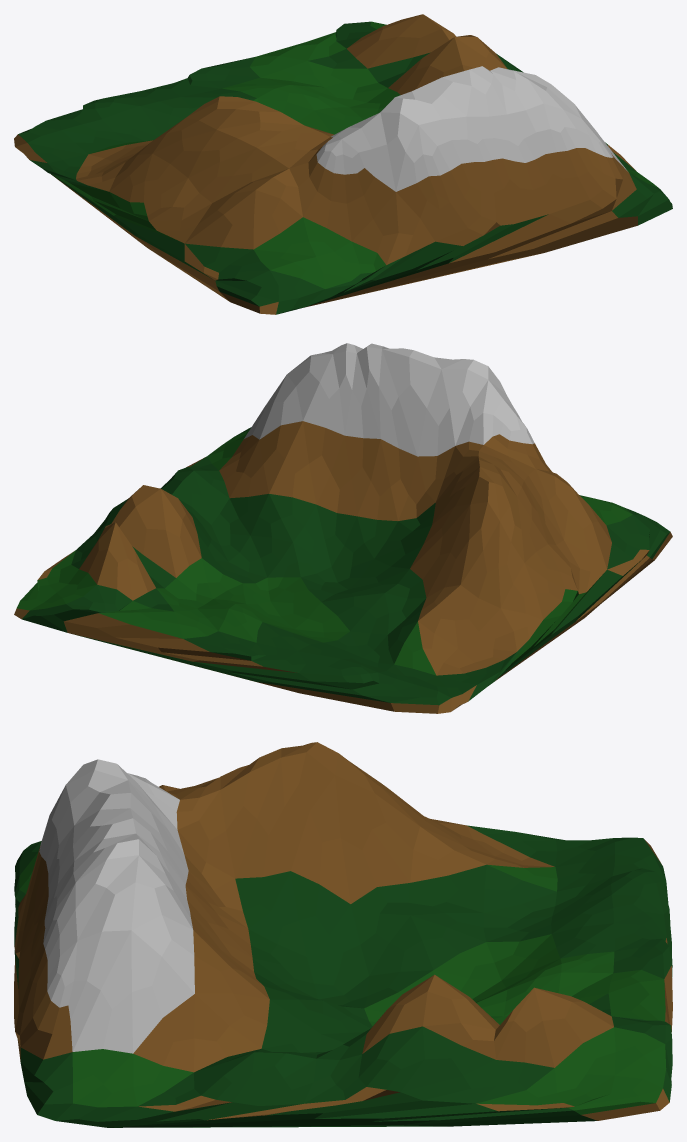
File: _and5.fbx
3 renders of one model, top to bottom at view 1: azimuth 30°, elevation 25°; view 2: azimuth 150°, elevation 25°; view 3: azimuth 270°, elevation 25°, orthographic. The views are drawn at different scales.
Visible parts, largest first — view 1: Land5; view 2: Land5; view 3: Land5.
Boxes of the visible parts, x1=… form: Land5: x1=14, y1=14, x2=672, y2=314; Land5: x1=14, y1=343, x2=672, y2=713; Land5: x1=14, y1=742, x2=672, y2=1127.
Size of the model in its own units: 10039 by 3710 by 9965.
